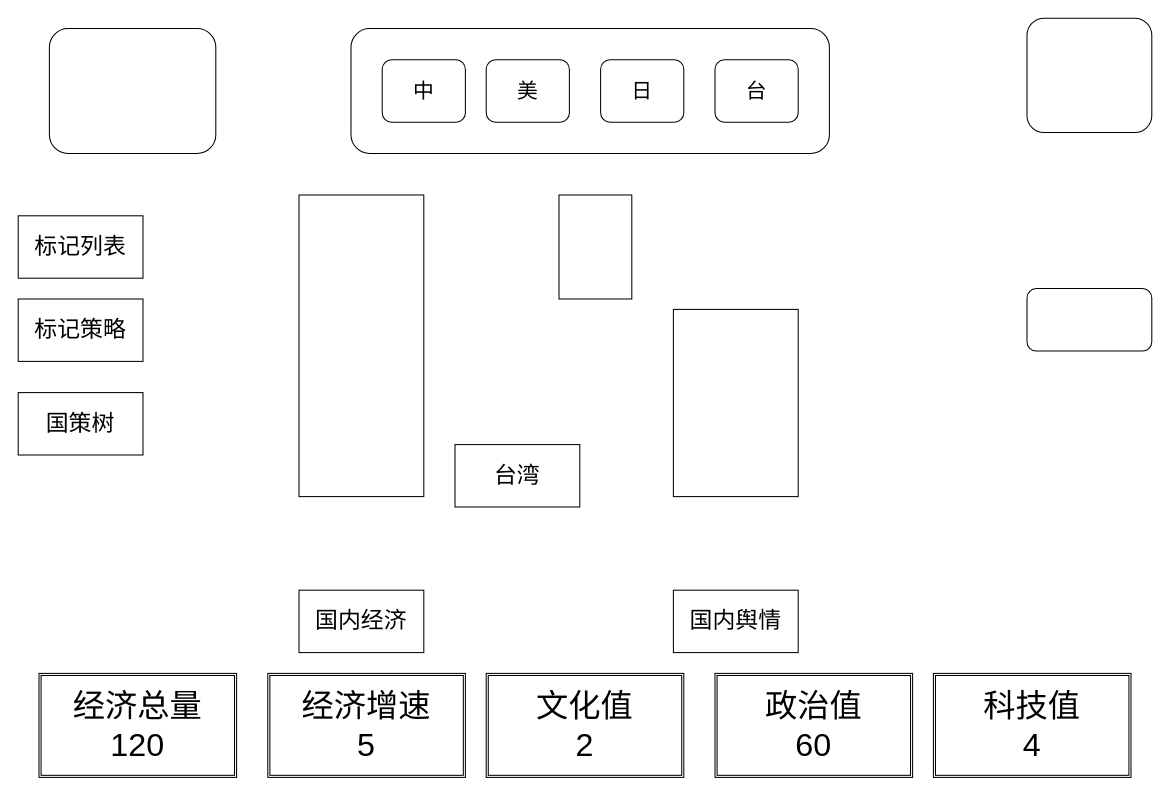
Some shapes in this 1170 by 796 pixel diagram are drawn without their labels. Here are the shapes that lost their labels. From the top down, the centre of each, then its label:
(x=132, y=90): 报纸
(x=1089, y=75): 回合数
(x=595, y=246): 日本
(x=1089, y=319): 结束回合
(x=361, y=345): 大陆
(x=735, y=402): 美国
